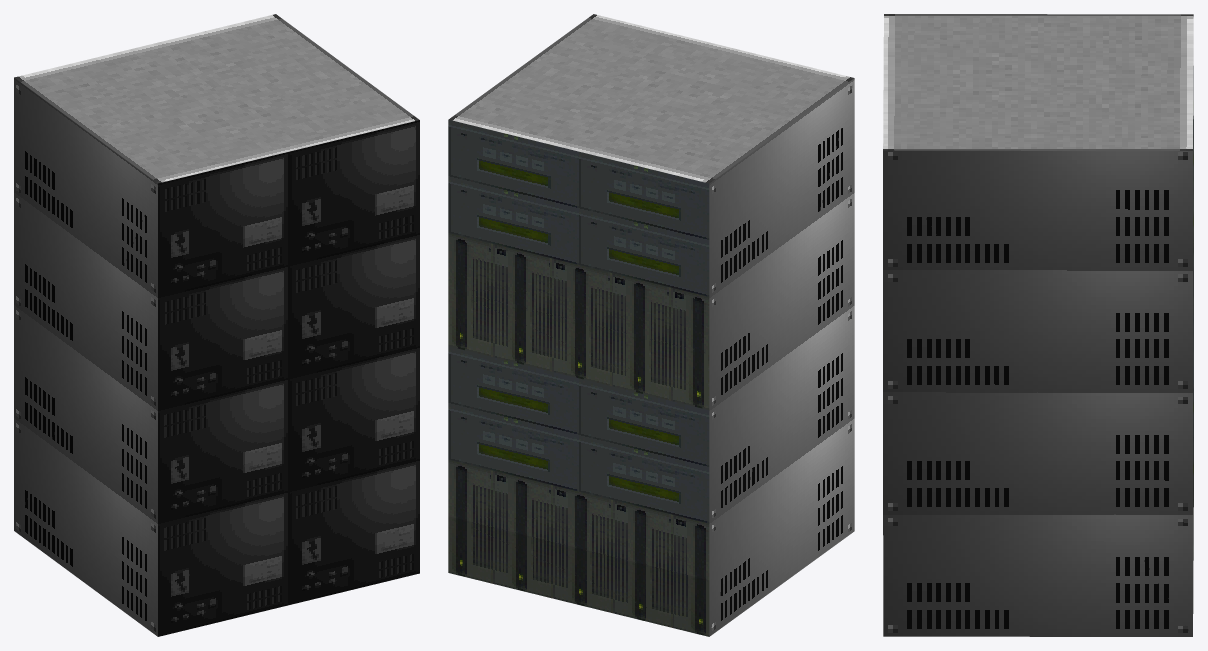
Rendered from primary_070.glb.
3 renders of one model, left to right at view 1: azimuth 30°, elevation 25°; view 2: azimuth 150°, elevation 25°; view 3: azimuth 270°, elevation 25°, orthographic. The views are drawn at different scales.
Parts seen in each view (by area): view 1: Object; view 2: Object; view 3: Object.
Boxes of the visible parts, x1,y1,x2,y2 form: Object: [14, 14, 419, 636]; Object: [448, 14, 854, 636]; Object: [883, 14, 1193, 636].
Size of the model in its own units: 1.62 by 2.68 by 1.55.
Materials: 9 (9 with a texture image).
